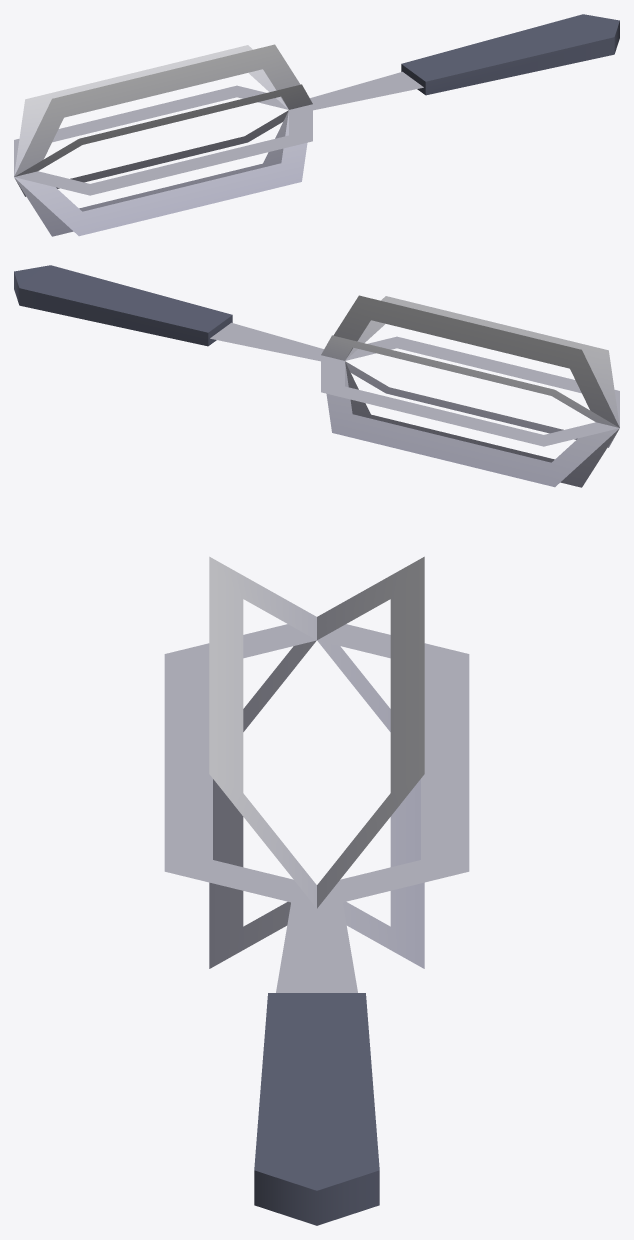
Rendered from whisk.glb.
3 renders of one model, top to bottom at view 1: azimuth 30°, elevation 25°; view 2: azimuth 150°, elevation 25°; view 3: azimuth 270°, elevation 25°, orthographic. The views are drawn at different scales.
Visible parts, largest first — view 1: whisk; view 2: whisk; view 3: whisk.
Boxes of the visible parts, x1=… form: whisk: x1=14, y1=14, x2=619, y2=236; whisk: x1=14, y1=265, x2=619, y2=487; whisk: x1=164, y1=556, x2=469, y2=1225.
Bounding box in the file's own units: 0.7244 × 0.1576 × 0.1576.
